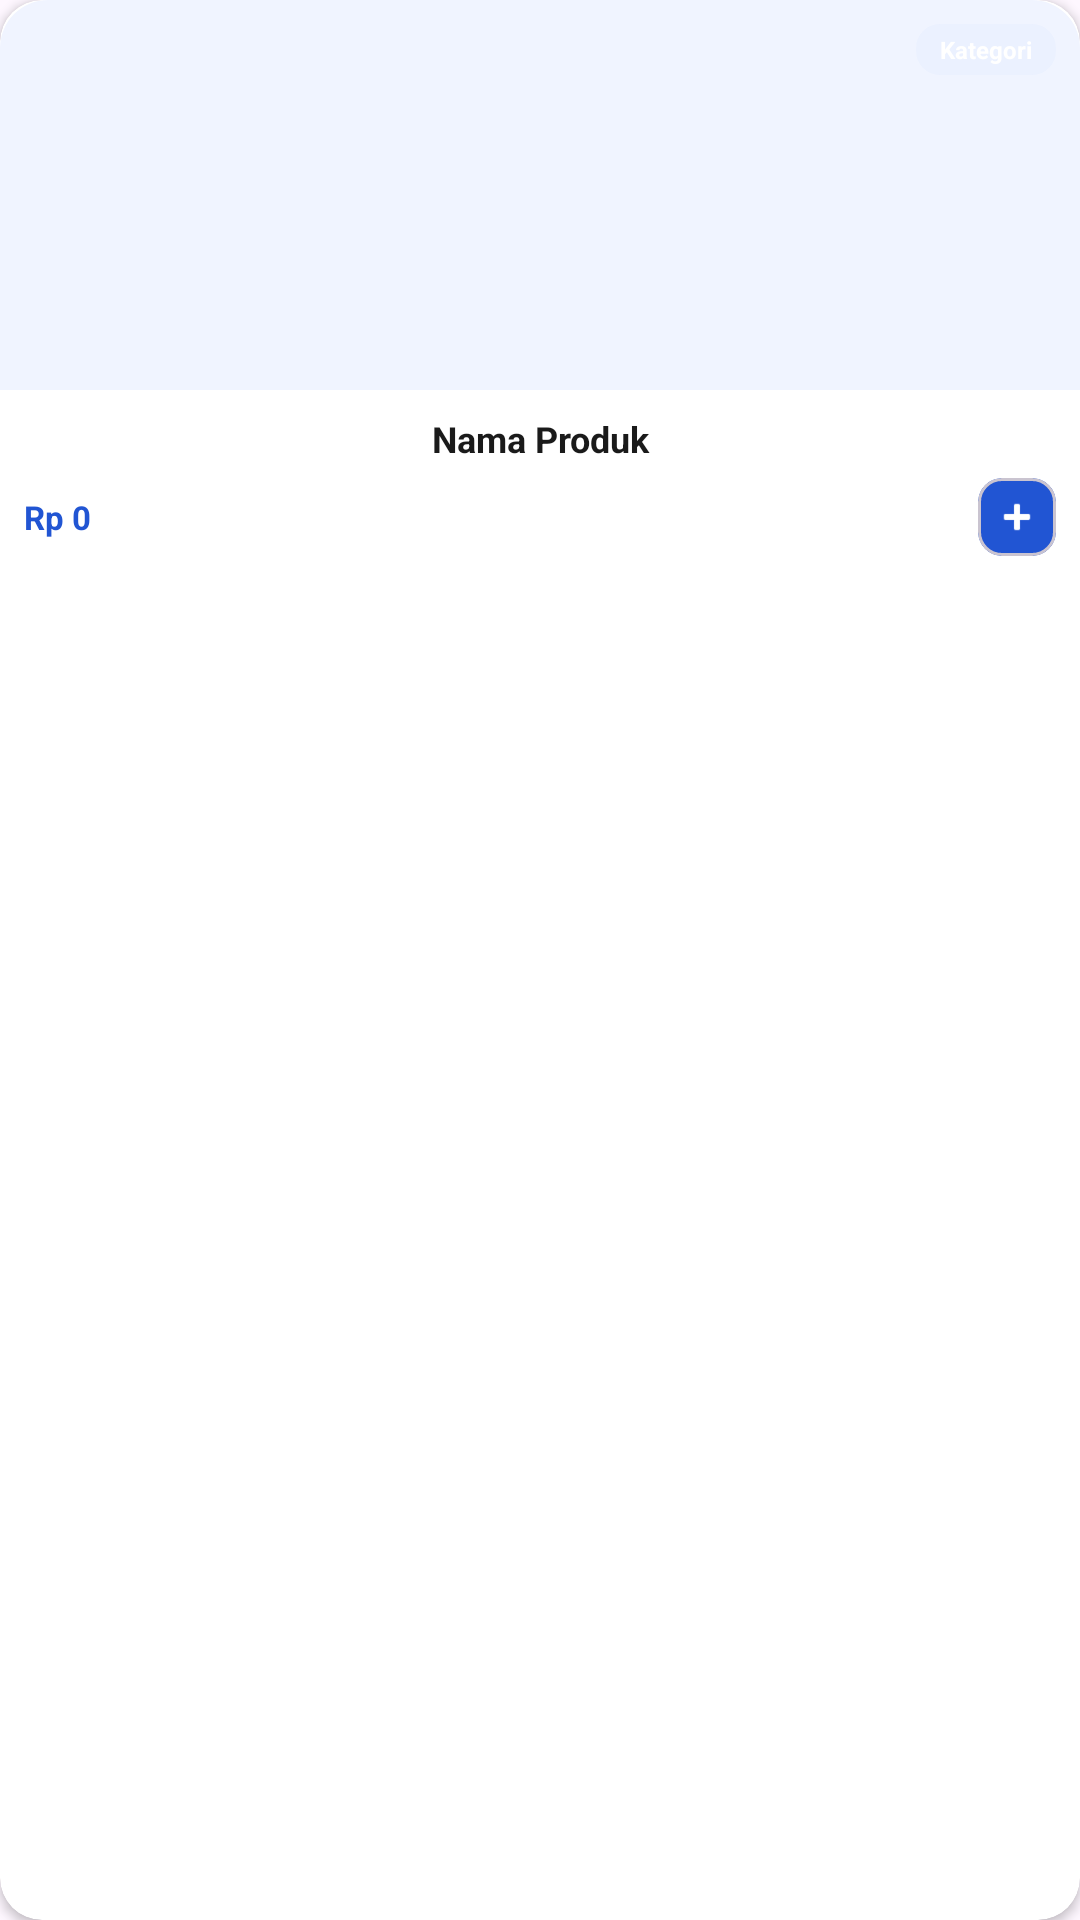

Where to tap for icons on this 1080w x 1920h app screen, as point (x, y):
add: point (1017, 517)
